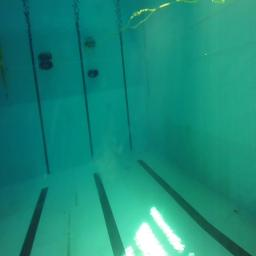Full: (36, 60, 52, 70), (88, 68, 100, 77)
